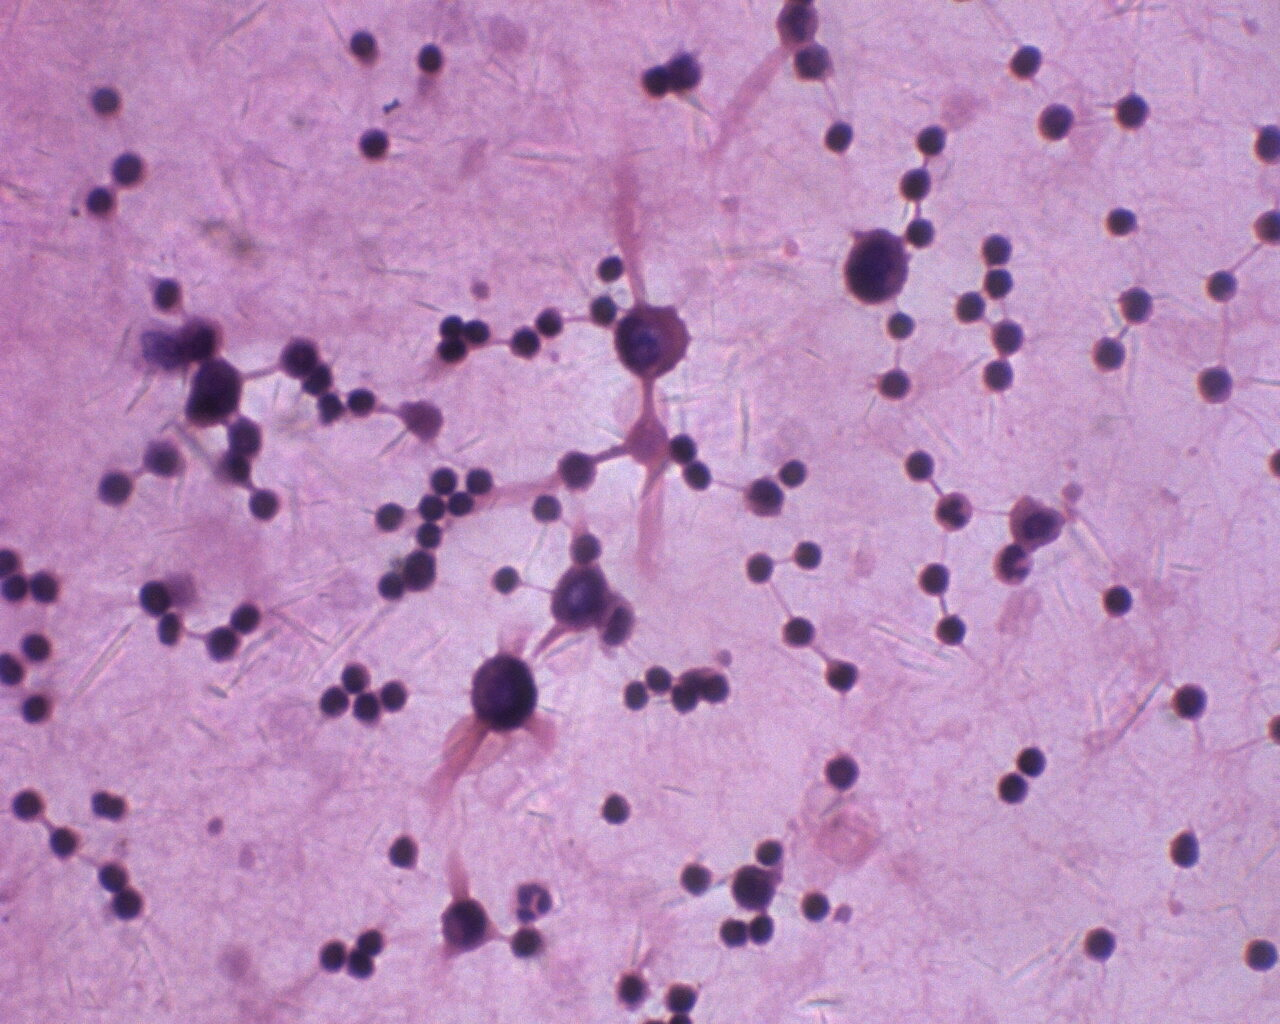ab: (613, 296, 694, 383), (464, 652, 543, 739), (838, 227, 912, 307)
lymph: (93, 464, 144, 512), (1087, 329, 1131, 380), (891, 163, 938, 209), (1110, 86, 1156, 131), (779, 608, 827, 652), (1035, 100, 1083, 142), (385, 830, 429, 872), (242, 483, 289, 523), (813, 115, 860, 155), (822, 749, 865, 792), (506, 320, 545, 366), (677, 854, 716, 901), (85, 83, 129, 123), (916, 559, 960, 599), (934, 609, 974, 653), (978, 353, 1019, 395), (1099, 581, 1142, 621), (995, 772, 1039, 811), (1170, 682, 1211, 723), (1083, 921, 1121, 962), (354, 127, 397, 164), (743, 546, 779, 589), (413, 37, 451, 75), (372, 498, 409, 537), (488, 559, 523, 599)
neutro: (509, 877, 556, 925), (991, 539, 1035, 588), (931, 486, 973, 533)
